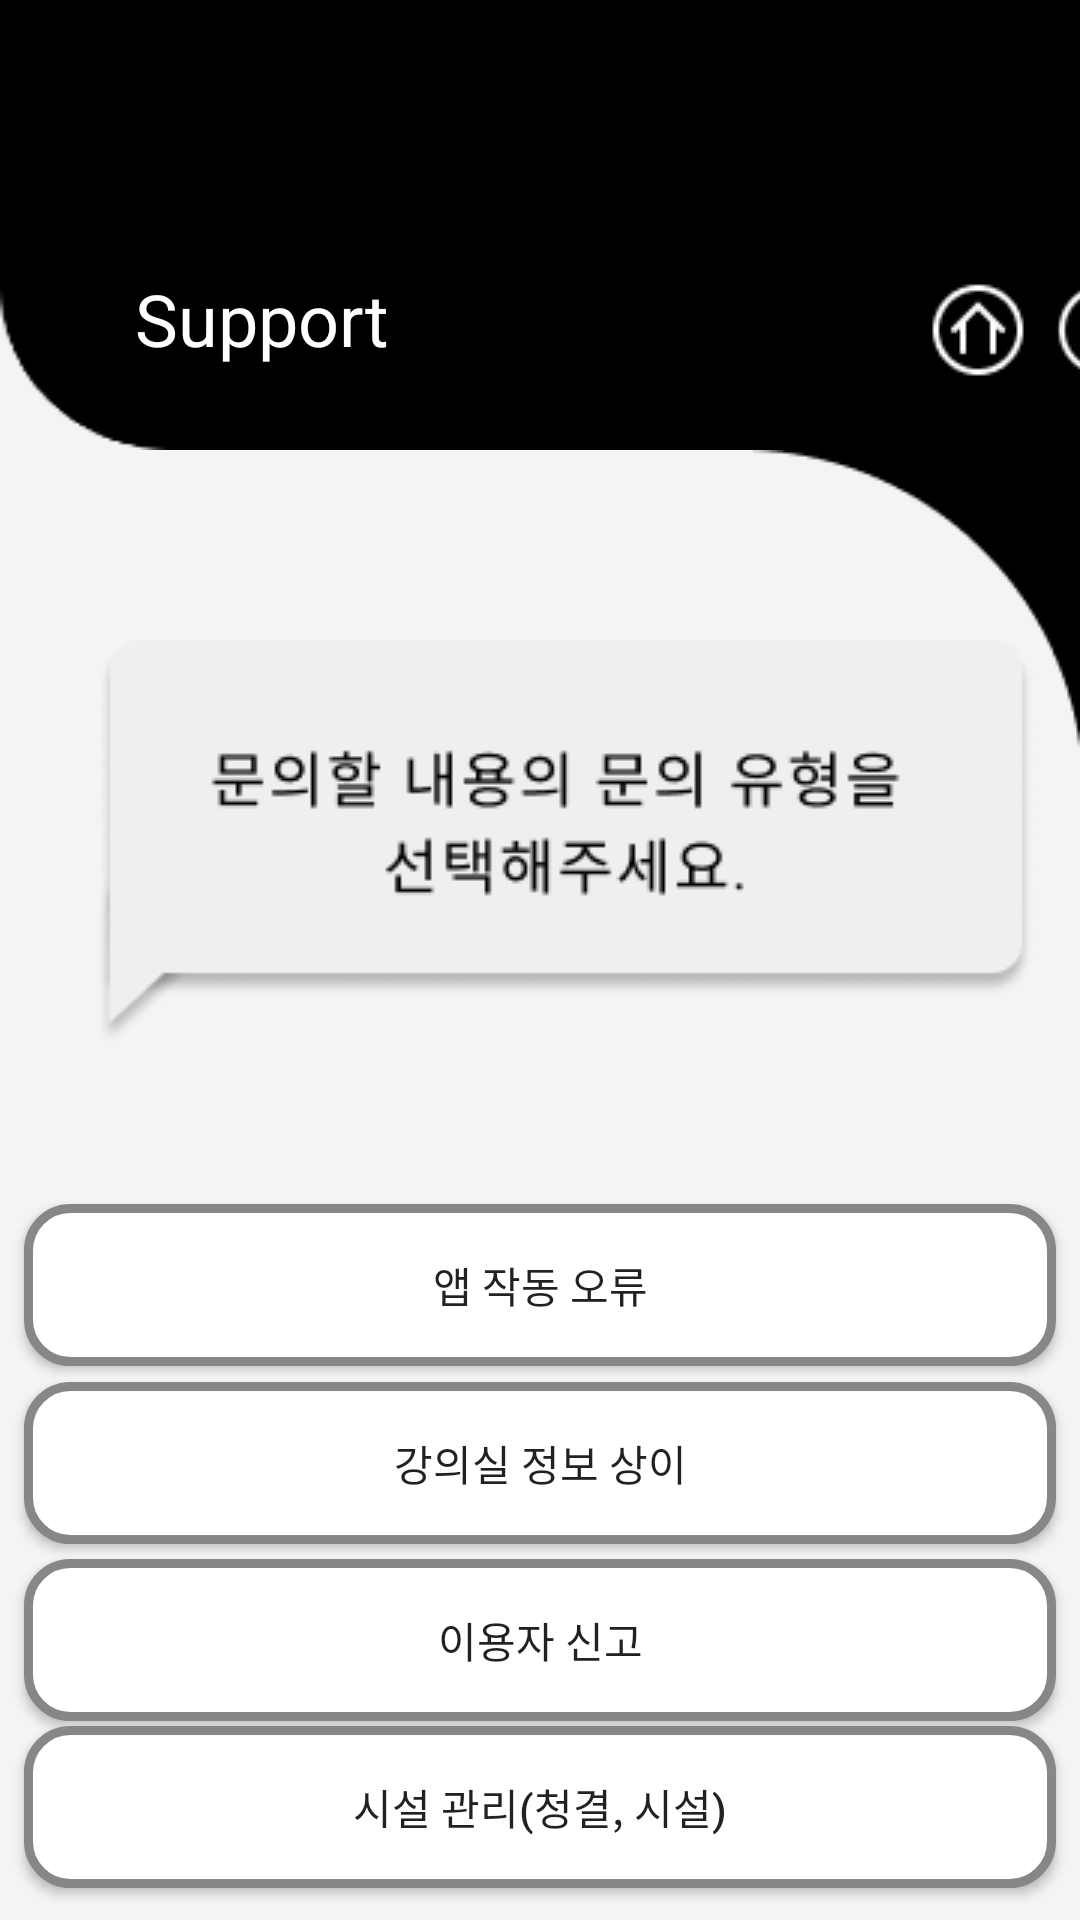

Icons on this 1080px x 1920px Android screen, each with its box as (x1, y1, x2, y2):
home: (932, 284, 1024, 376)
